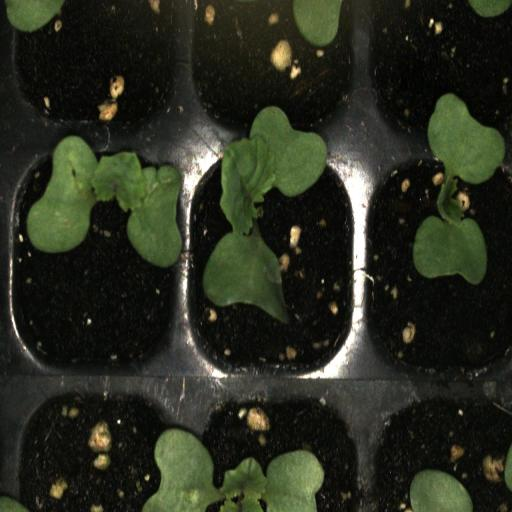seedling: (6, 141, 184, 382), (184, 141, 360, 380), (361, 144, 512, 382), (189, 383, 359, 512)
